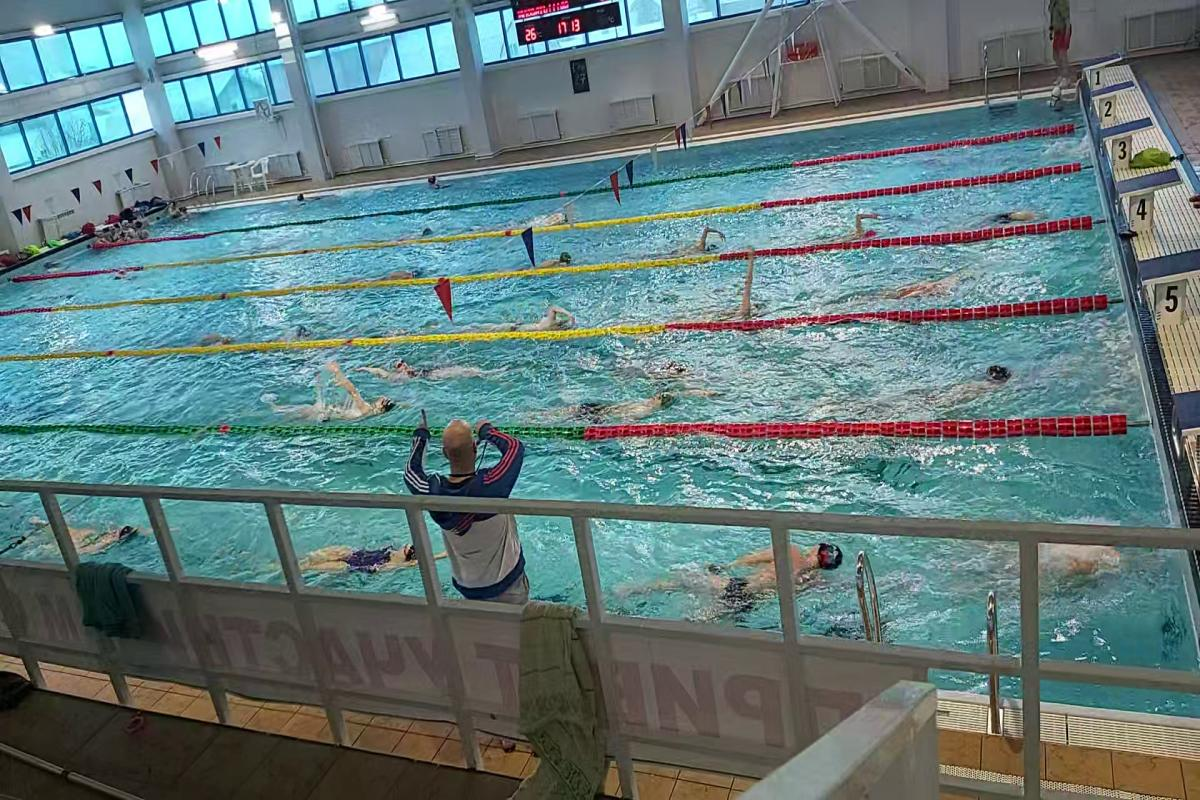swimmer: (668, 535, 844, 616), (524, 387, 704, 425), (29, 508, 148, 558), (274, 385, 414, 422), (310, 535, 428, 573), (377, 349, 511, 381), (874, 277, 974, 307), (502, 307, 582, 338), (707, 289, 782, 321), (668, 228, 730, 260), (524, 237, 580, 270), (965, 201, 1042, 218), (843, 220, 882, 241)
